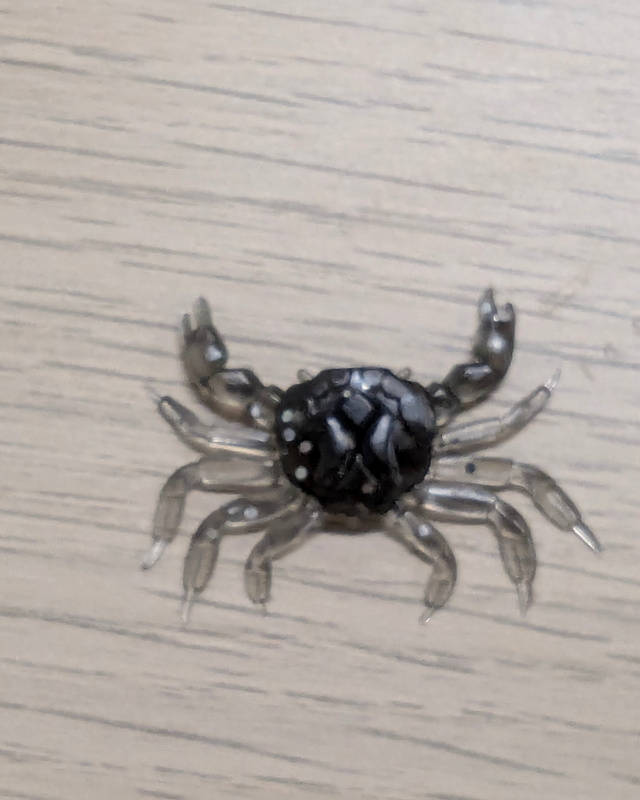crab1: (145, 283, 605, 621)
